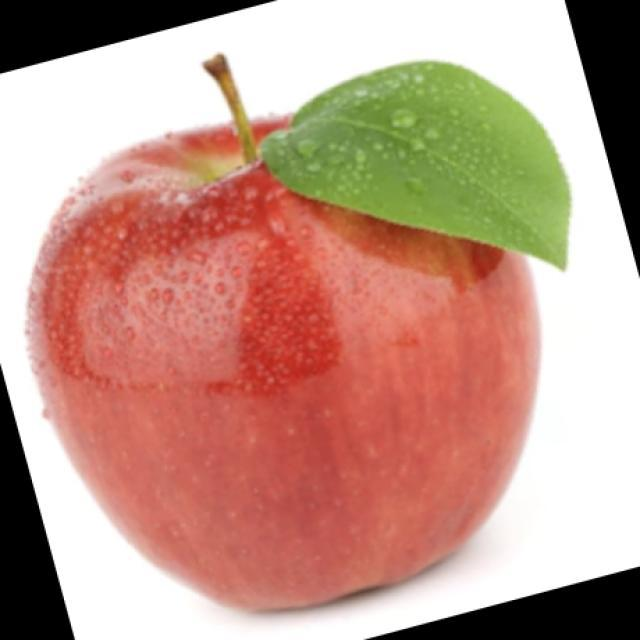Apple: (23, 52, 570, 614)
